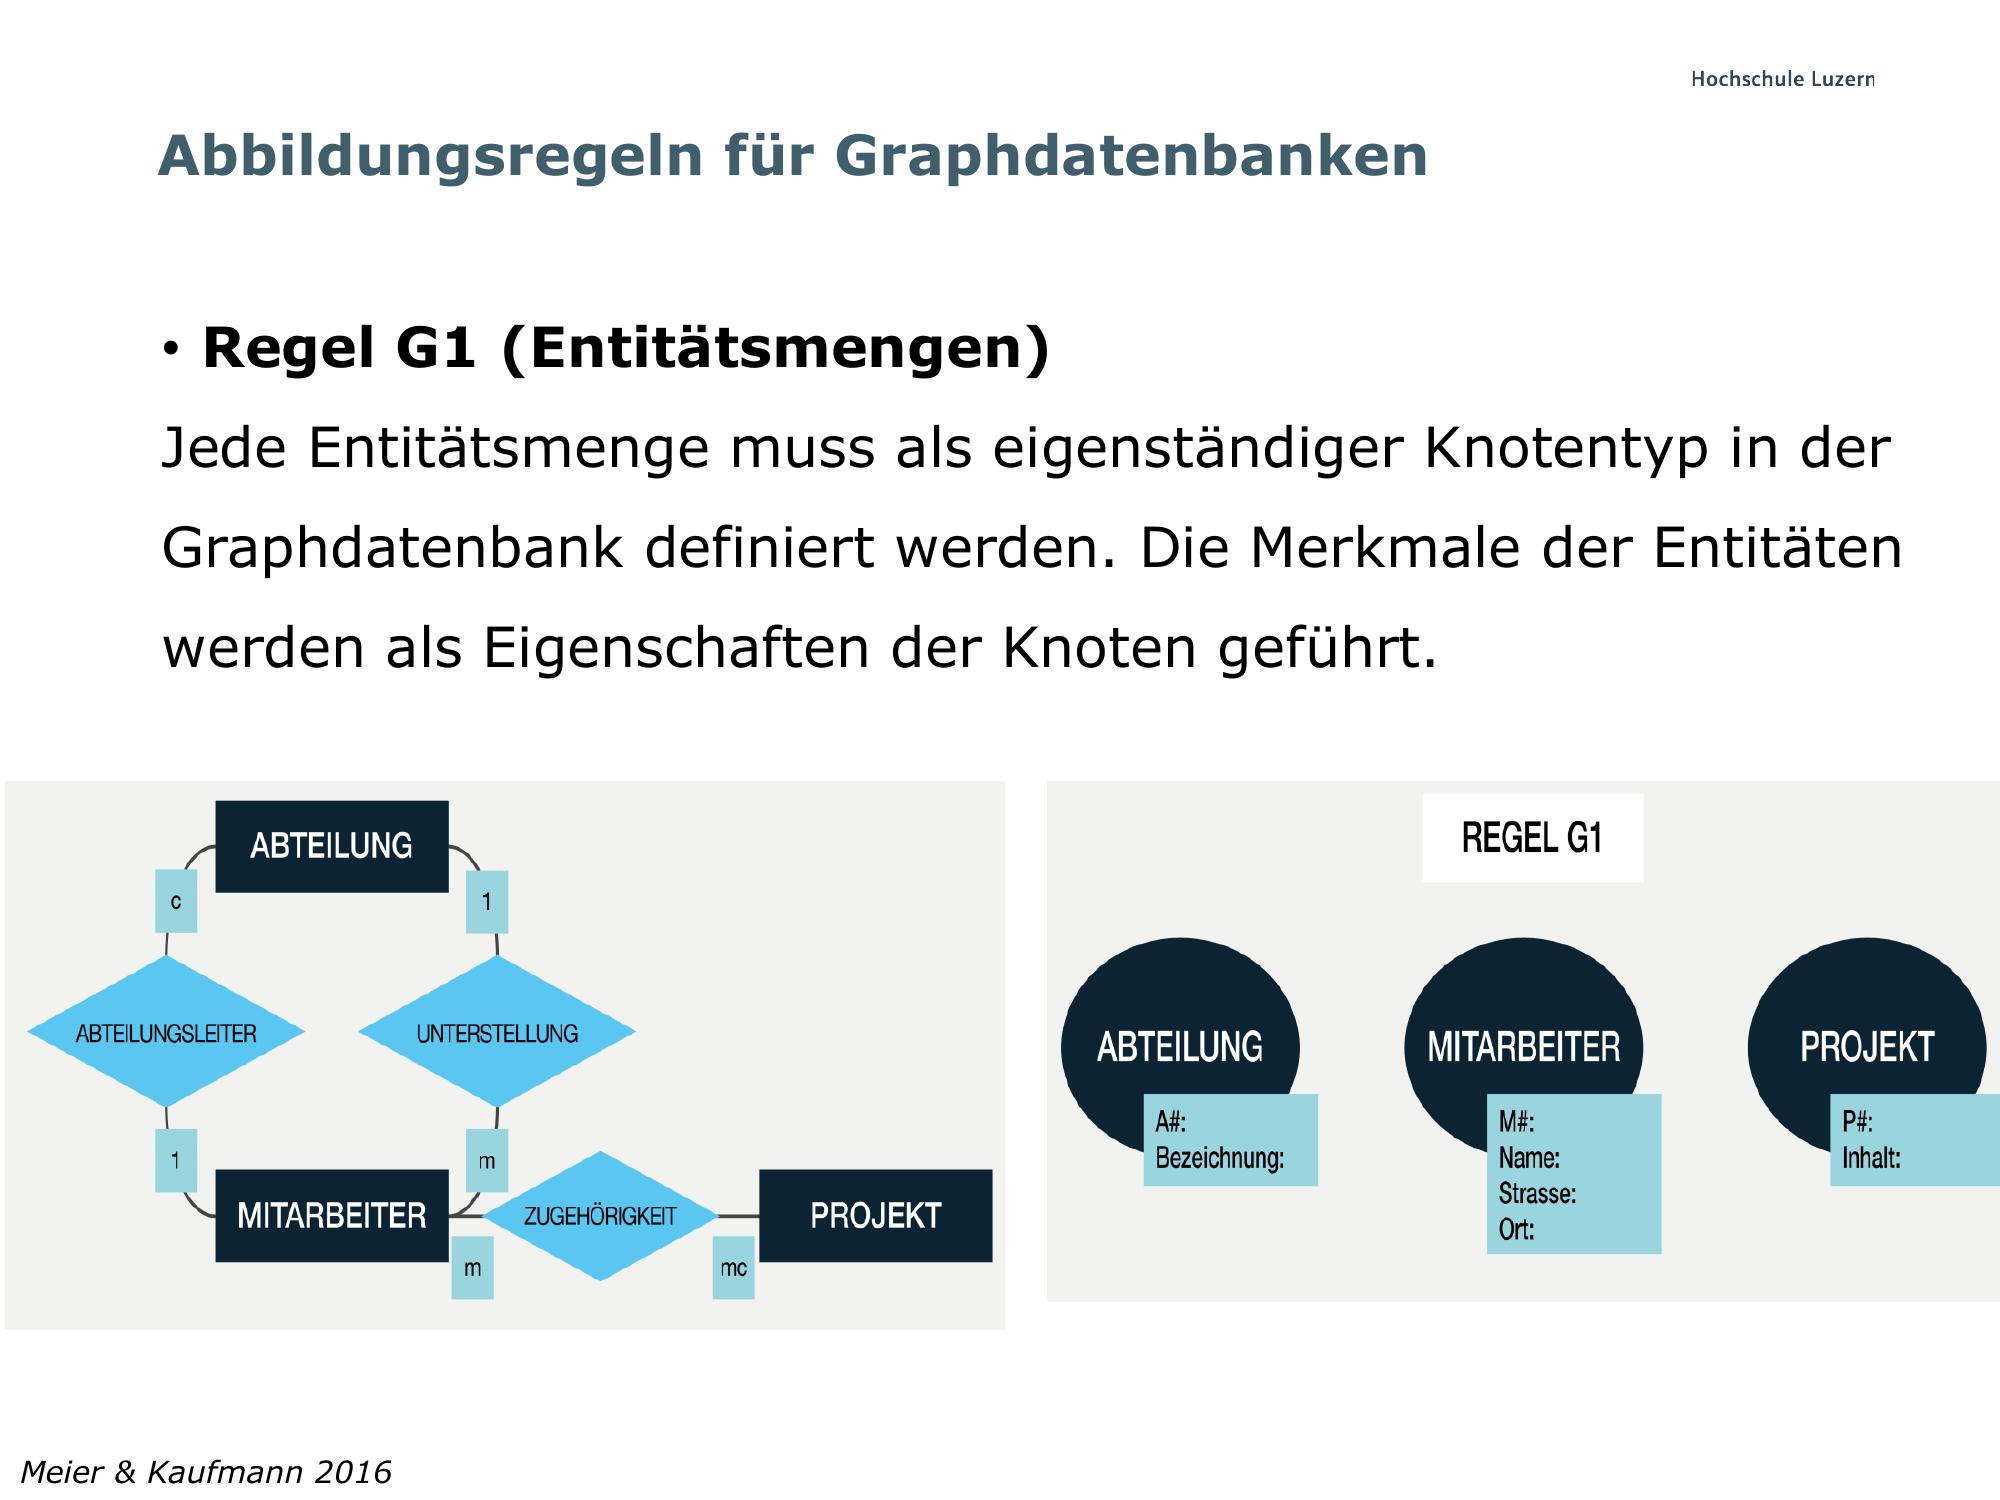Title: (146, 118, 1435, 199)
